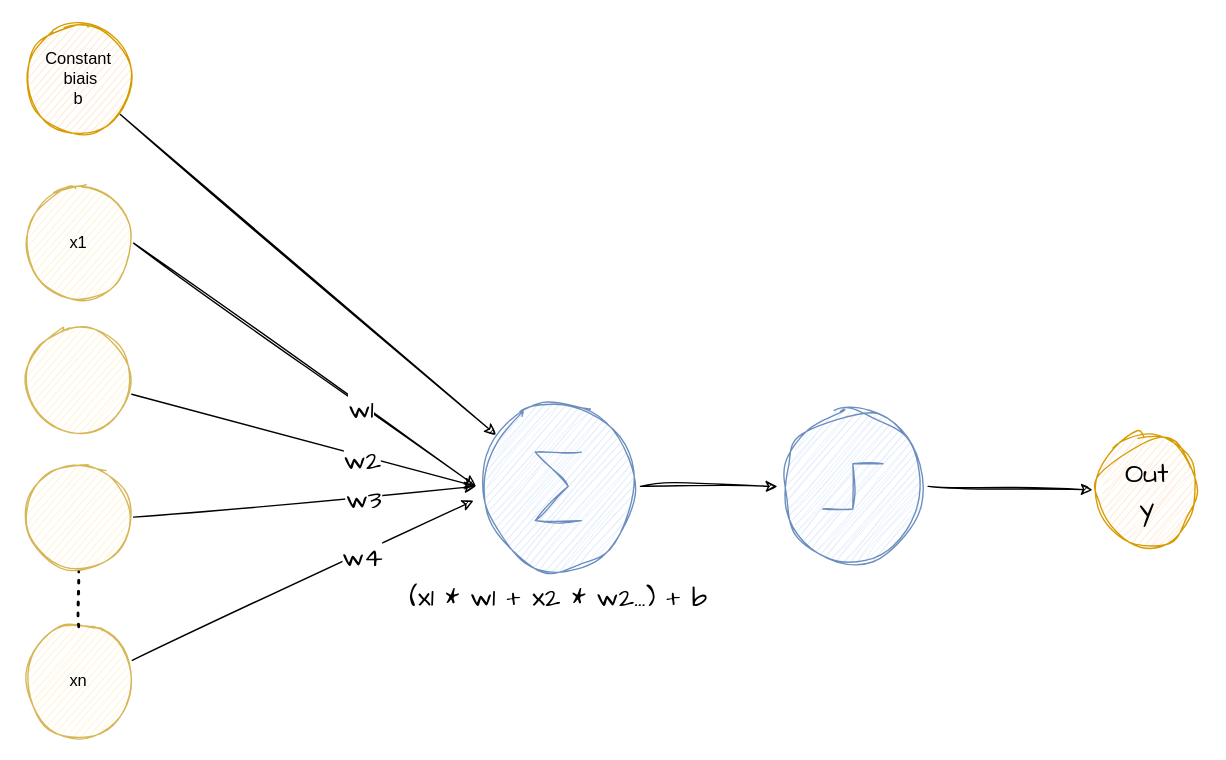
Image size: 1226x760. Some labels were removed from this diagram. The shapes that lost their labels are listed below. From the top down, each one's centre as x and y in pixels, then its label:
point (78, 379): x2
point (852, 486): Activation Function (e.g Step function)
point (78, 516): x3
